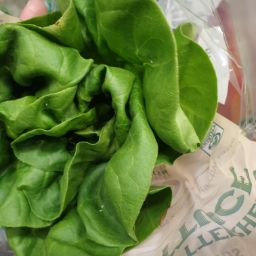Spinach: (7, 13, 197, 238)
